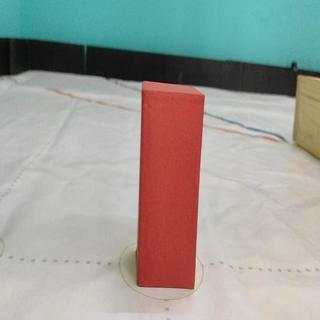redbox: (139, 84, 203, 288)
